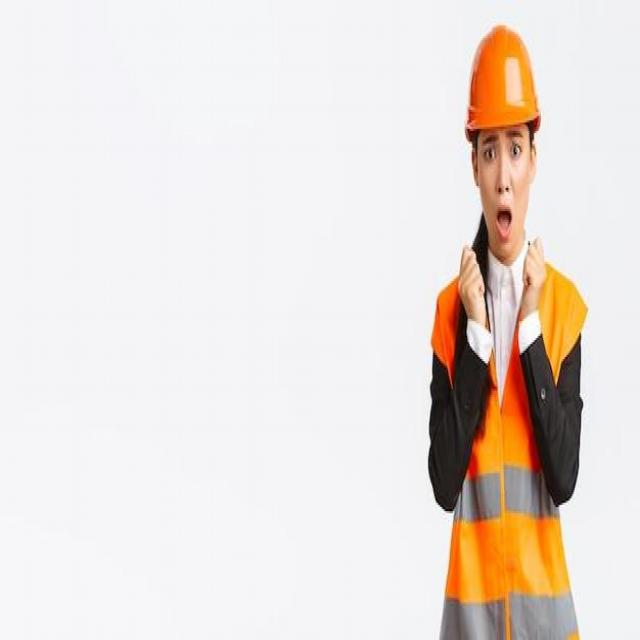Reflective-Jacket: (431, 249, 586, 619)
Safety-Helmet: (463, 19, 543, 142)
